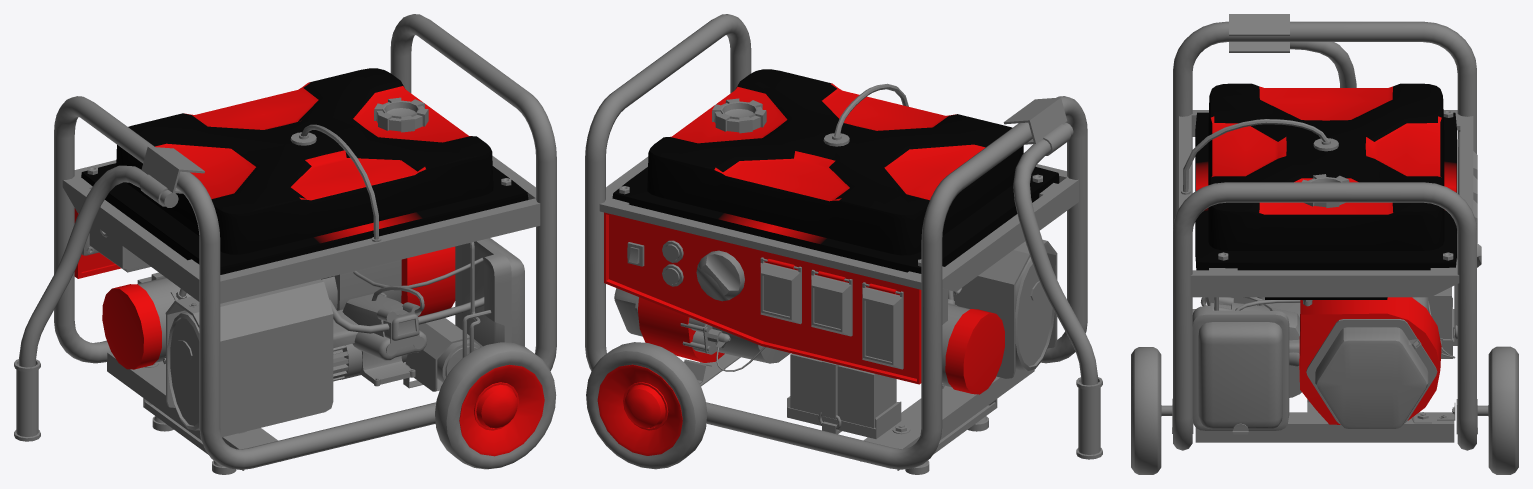
Rendered from PortableGenerator_Low.fbx.
The picture shows the model from 3 angles, left to right: view 1: azimuth 30°, elevation 25°; view 2: azimuth 150°, elevation 25°; view 3: azimuth 270°, elevation 25°; orthographic projection. The views are drawn at different scales.
Parts seen in each view (by area): view 1: PortableGenerator_Metal_LP, PortableGenerator_Plastic_LP; view 2: PortableGenerator_Metal_LP, PortableGenerator_Plastic_LP; view 3: PortableGenerator_Metal_LP, PortableGenerator_Plastic_LP.
Boxes of the visible parts, x1,y1,x2,y2 form: PortableGenerator_Metal_LP: (14,14,556,474); PortableGenerator_Plastic_LP: (74,68,544,456); PortableGenerator_Metal_LP: (585,14,1102,474); PortableGenerator_Plastic_LP: (597,69,1059,455); PortableGenerator_Metal_LP: (1131,14,1518,474); PortableGenerator_Plastic_LP: (1195,83,1456,424).
Bounding box in the file's own units: 30.74 × 21.43 × 23.23.
